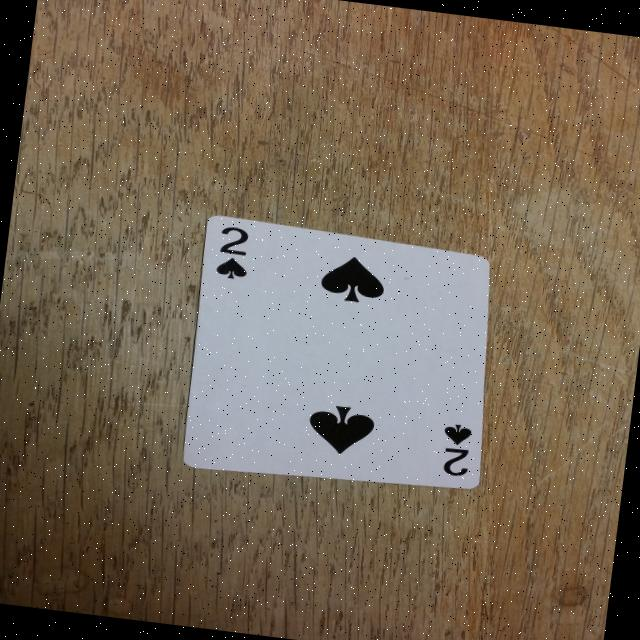2s: (200, 218, 262, 286), (430, 418, 486, 487)
